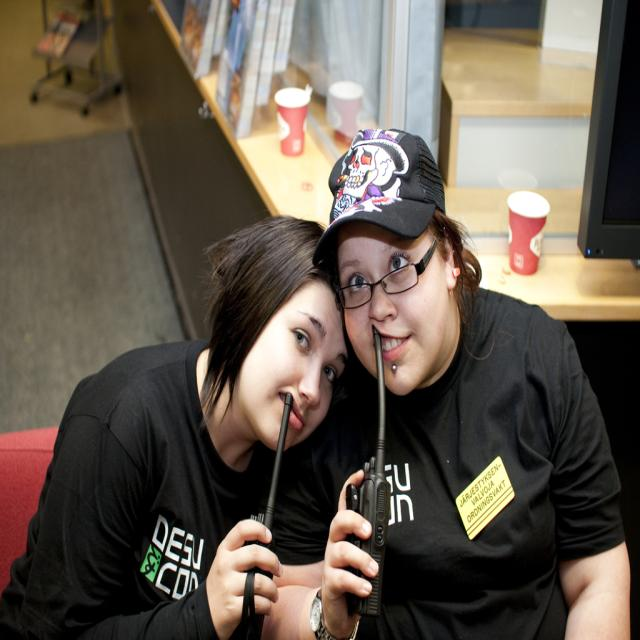Hat: (312, 125, 443, 263)
